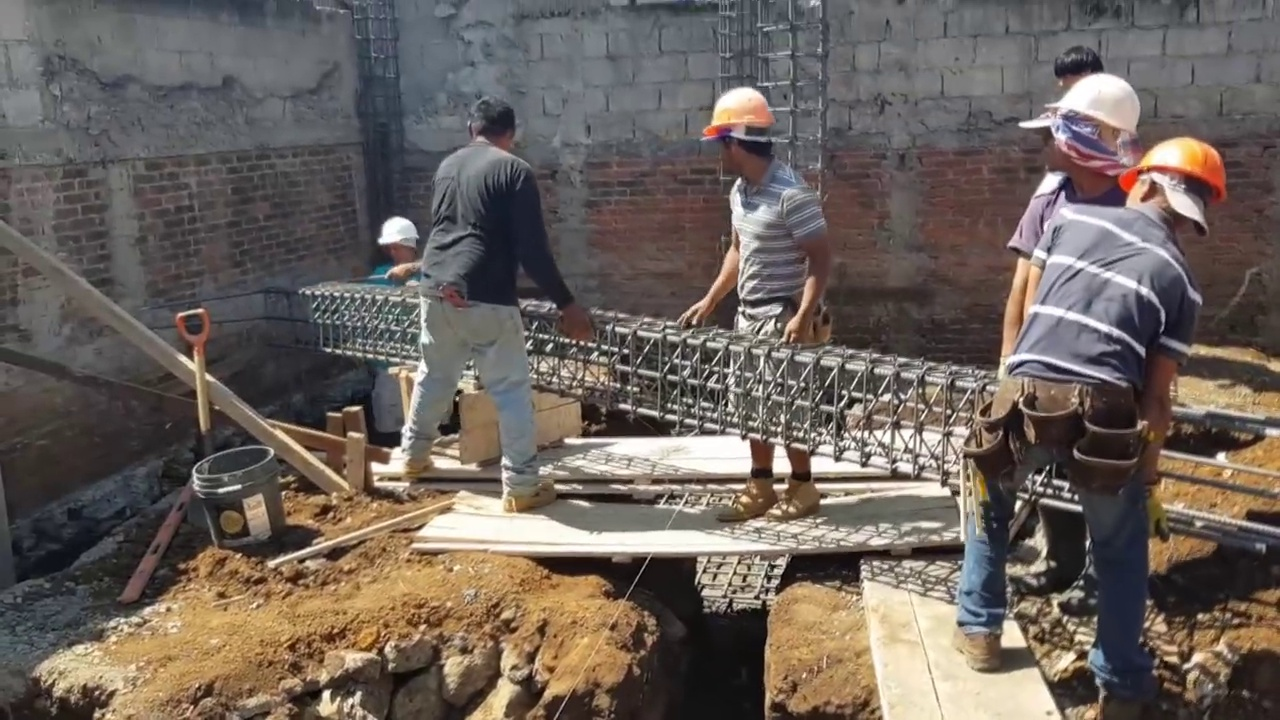helmet: (1128, 136, 1226, 207), (1046, 75, 1141, 132), (703, 89, 775, 140), (374, 219, 420, 254)
helmet-off: (466, 100, 520, 155), (1055, 49, 1106, 97)
helmet-on: (1041, 71, 1144, 195), (1118, 132, 1229, 244), (703, 86, 785, 198), (373, 218, 421, 273)
person: (963, 139, 1235, 720), (397, 90, 586, 527), (686, 81, 831, 492), (355, 219, 427, 445), (776, 445, 825, 524)
